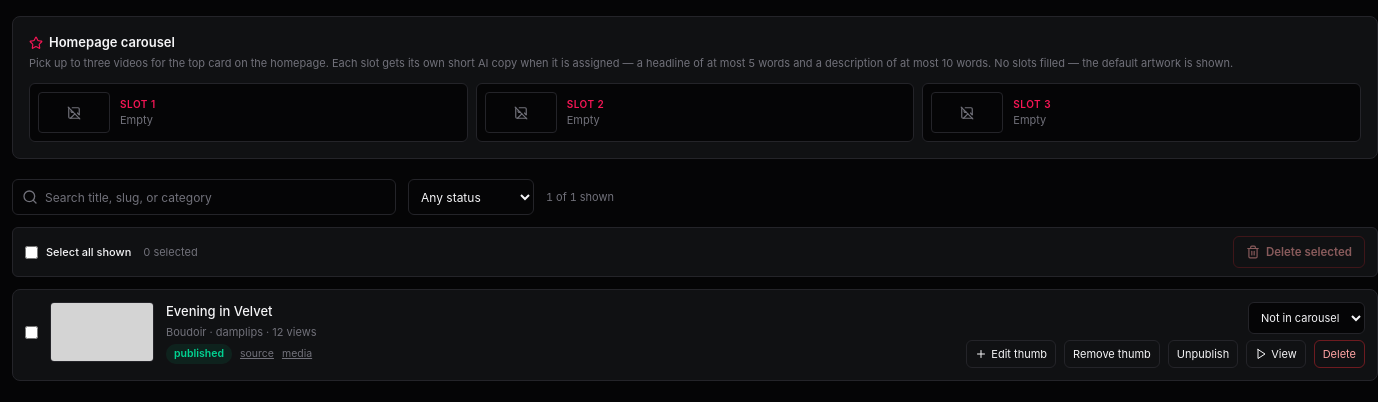
Test: VideoManager › deletes the video after confirmation and drops the row
This screenshot has width=1378, height=402.
Click the button "Delete": (1339, 354) top-left (1314, 340), bottom-right (1365, 368)
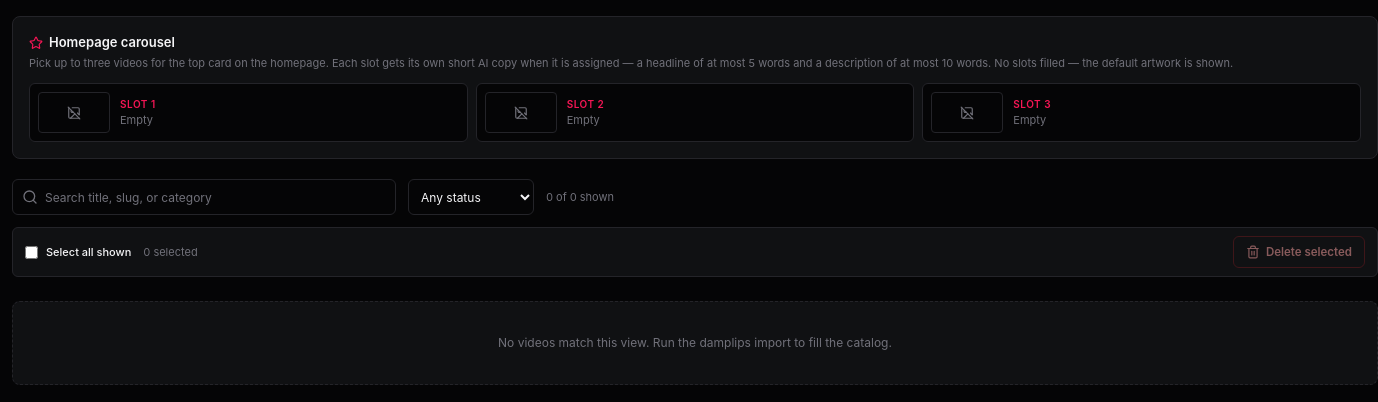
Check: the text "Evening in Velvet" is gone
